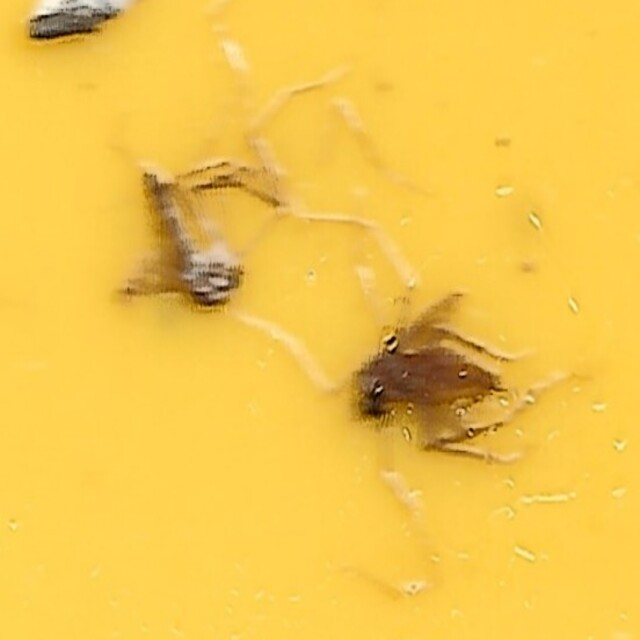Nematocera: (350, 270, 524, 490), (116, 150, 277, 326)
